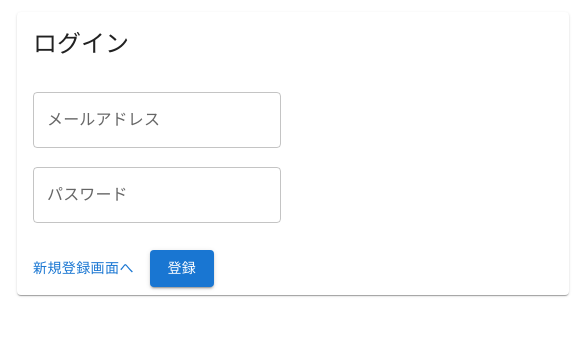
TalkRoomListItem › loginEmail › 空白でエラー
Click the button with test id "submitBtn" at coordinates (182, 268), box [150, 250, 214, 286]
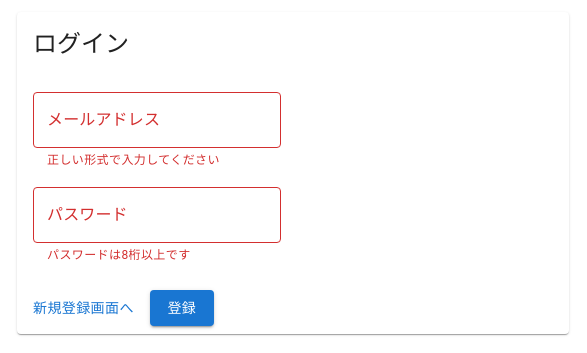
Result: the text with test id "loginEmailErr" reads "正しい形式で入力してください" at [47, 153, 220, 167]
